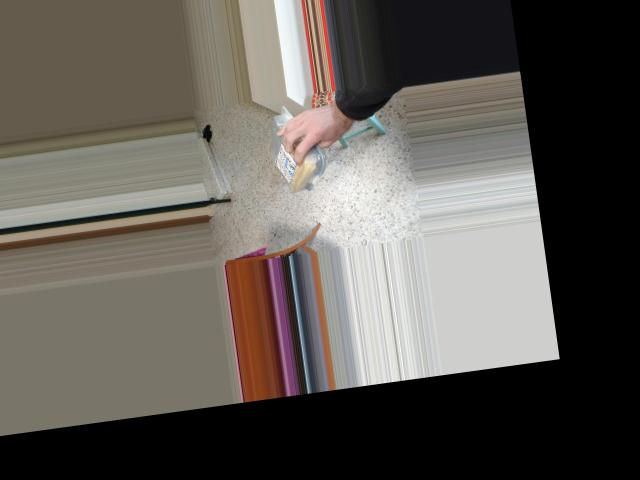cheese: (266, 103, 320, 194)
